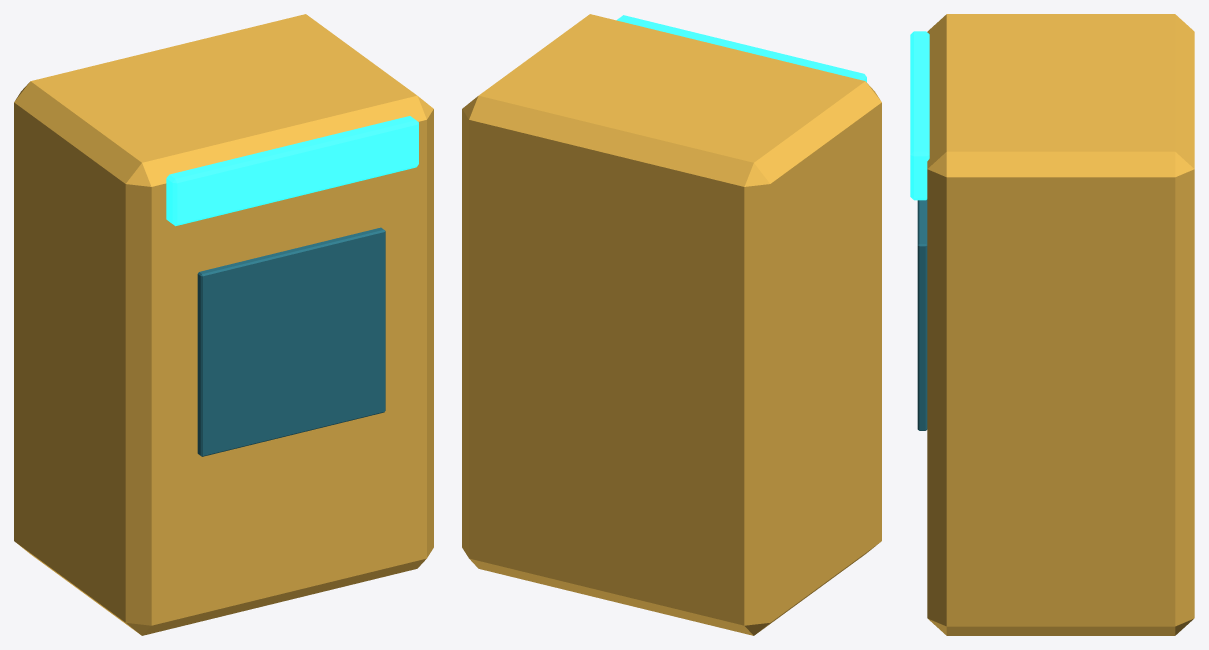
The model's file is street_014_seed11.glb.
3 views of the same model, side by side, from view 1: azimuth 30°, elevation 25°; view 2: azimuth 150°, elevation 25°; view 3: azimuth 270°, elevation 25° (orthographic). The views are drawn at different scales.
Parts seen in each view (by area): view 1: street_014_seed11; view 2: street_014_seed11; view 3: street_014_seed11.
Part boxes in pixels (bbox=[...]): street_014_seed11: bbox=[14, 14, 433, 635]; street_014_seed11: bbox=[462, 14, 881, 635]; street_014_seed11: bbox=[910, 14, 1194, 635].
Size of the model in its own units: 1.5 by 2.2 by 1.17.
